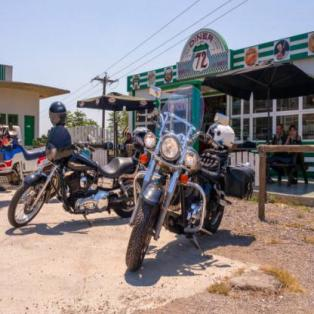Motocicleta: (124, 103, 239, 280), (8, 106, 147, 232)
